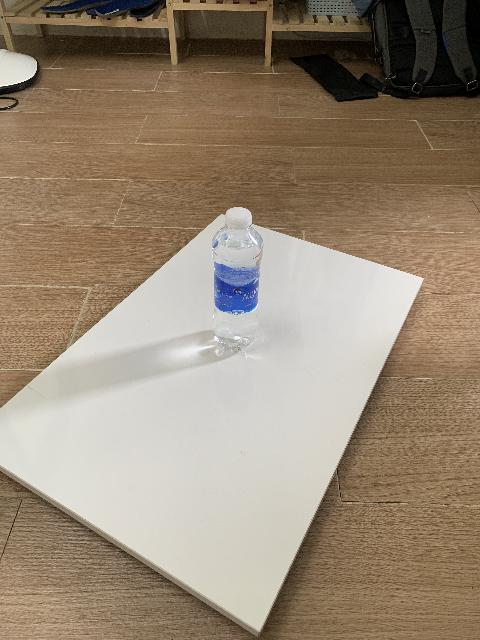aquafina: (211, 207, 263, 353)
